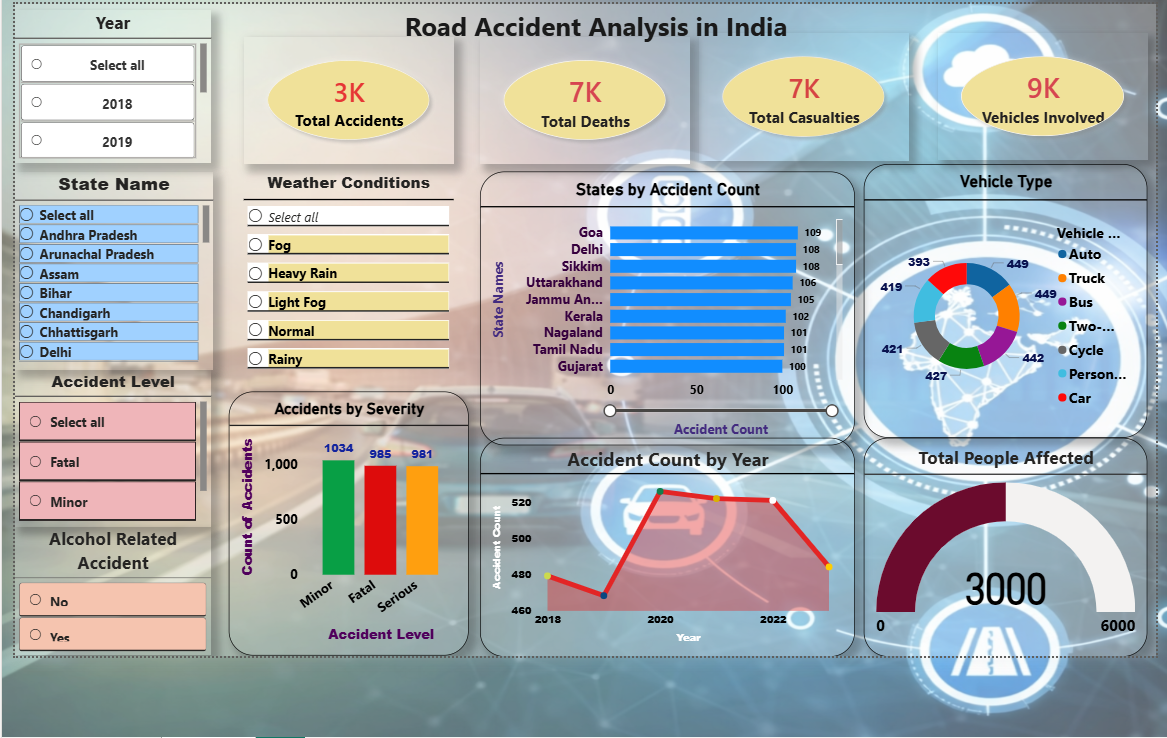

What the dashboard file says about the page in this screenshot:
{"tool":"powerbi","page":{"name":"Page 1","canvas":[1400,800],"ordinal":0},"visuals":[{"type":"textbox","box":[429.2,0,567.3,70.5],"z":0},{"type":"cardVisual","fields":{"Data":["CountNonNull(accident_prediction_india.Accident Level)"]},"box":[280.7,39.9,257.7,156.4],"z":1000},{"type":"cardVisual","fields":{"Data":["accident_prediction_india.Total Casualties"]},"box":[839,35.3,257.7,158],"z":2000},{"type":"cardVisual","fields":{"Data":["Sum(accident_prediction_india.Number of Deaths)"]},"box":[570.6,39.9,257.7,156.4],"z":3000},{"type":"cardVisual","fields":{"Data":["Sum(accident_prediction_india.Number of Vehicles Involved)"]},"box":[1131.7,36,258.1,156.1],"z":4000},{"type":"clusteredColumnChart","title":"Accidents by Severity","fields":{"Category":["accident_prediction_india.Accident Level"],"Y":["CountNonNull(accident_prediction_india.Accident Level)"]},"box":[262.3,475.5,294.5,323.6],"z":5000},{"type":"clusteredBarChart","title":"States by Accident Count","fields":{"Y":["CountNonNull(accident_prediction_india.Accident Level)"],"Category":["accident_prediction_india.State Name"]},"box":[570.6,205.5,460.1,335.9],"z":6000},{"type":"donutChart","title":" Vehicle Type ","fields":{"Category":["accident_prediction_india.Vehicle Type Involved"],"Y":["CountNonNull(accident_prediction_india.Accident Level)"]},"box":[1041.4,196.3,348.2,335.9],"z":7000},{"type":"advancedSlicerVisual","fields":{"Values":["accident_prediction_india.Year"]},"box":[0,8,240.8,188.2],"z":8000},{"type":"listSlicer","fields":{"Values":["accident_prediction_india.State Name"]},"box":[0,205.6,243.1,243.1],"z":9000},{"type":"advancedSlicerVisual","fields":{"Values":["accident_prediction_india.Accident Level"]},"box":[0,449.4,240.8,191.7],"z":10000},{"type":"advancedSlicerVisual","fields":{"Values":["accident_prediction_india.Alcohol Involvement"]},"box":[0,641.1,240.8,158],"z":11000},{"type":"listSlicer","fields":{"Values":["accident_prediction_india.Weather Conditions"]},"box":[280.7,205.5,257.7,388],"z":12000},{"type":"areaChart","fields":{"Category":["accident_prediction_india.Year"],"Y":["CountNonNull(accident_prediction_india.Accident Level)"]},"box":[570.6,532.2,460.1,268.4],"z":13000},{"type":"gauge","title":"Total People Affected","fields":{"Y":["CountNonNull(accident_prediction_india.Accident Level)"],"TargetValue":["Sum(accident_prediction_india.People Affected)"]},"box":[1041.4,532.2,348.2,268.4],"z":14000}]}

Visuals, with their boxes on the page's 1400x800 design canvas (x1, y1, x2, y2). These are canvas units, not pixel positions in the 1167x738 screenshot, which may show the page scaled, cropped or inside an application window:
textbox: rect(429, 0, 996, 70)
cardVisual - CountNonNull(accident_prediction_india.Accident Level): rect(281, 40, 538, 196)
cardVisual - accident_prediction_india.Total Casualties: rect(839, 35, 1097, 193)
cardVisual - Sum(accident_prediction_india.Number of Deaths): rect(571, 40, 828, 196)
cardVisual - Sum(accident_prediction_india.Number of Vehicles Involved): rect(1132, 36, 1390, 192)
"Accidents by Severity" clusteredColumnChart: rect(262, 476, 557, 799)
"States by Accident Count" clusteredBarChart: rect(571, 206, 1031, 541)
" Vehicle Type " donutChart: rect(1041, 196, 1390, 532)
advancedSlicerVisual - accident_prediction_india.Year: rect(0, 8, 241, 196)
listSlicer - accident_prediction_india.State Name: rect(0, 206, 243, 449)
advancedSlicerVisual - accident_prediction_india.Accident Level: rect(0, 449, 241, 641)
advancedSlicerVisual - accident_prediction_india.Alcohol Involvement: rect(0, 641, 241, 799)
listSlicer - accident_prediction_india.Weather Conditions: rect(281, 206, 538, 594)
areaChart - accident_prediction_india.Year x CountNonNull(accident_prediction_india.Accident Level): rect(571, 532, 1031, 801)
"Total People Affected" gauge: rect(1041, 532, 1390, 801)
